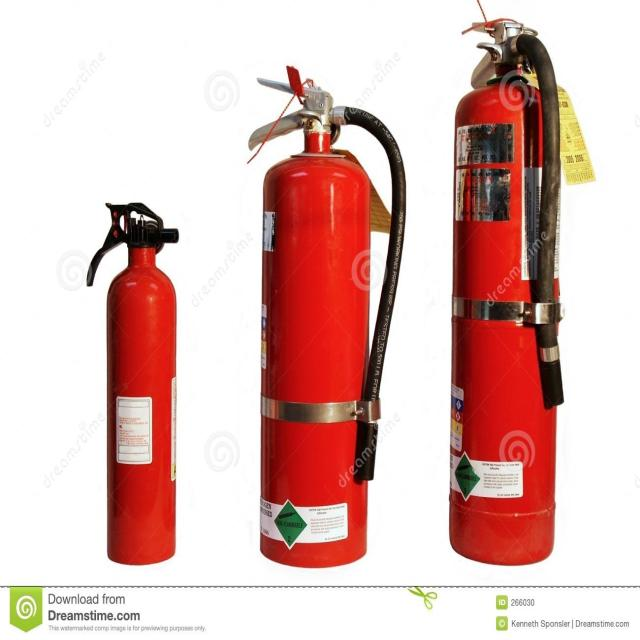fire_extinguisher: (246, 62, 408, 572), (445, 13, 567, 570), (83, 197, 182, 569)
